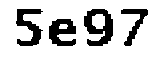5: (11, 4, 44, 48)
7: (115, 3, 153, 53)
9: (82, 5, 116, 53)
e: (44, 17, 80, 51)
